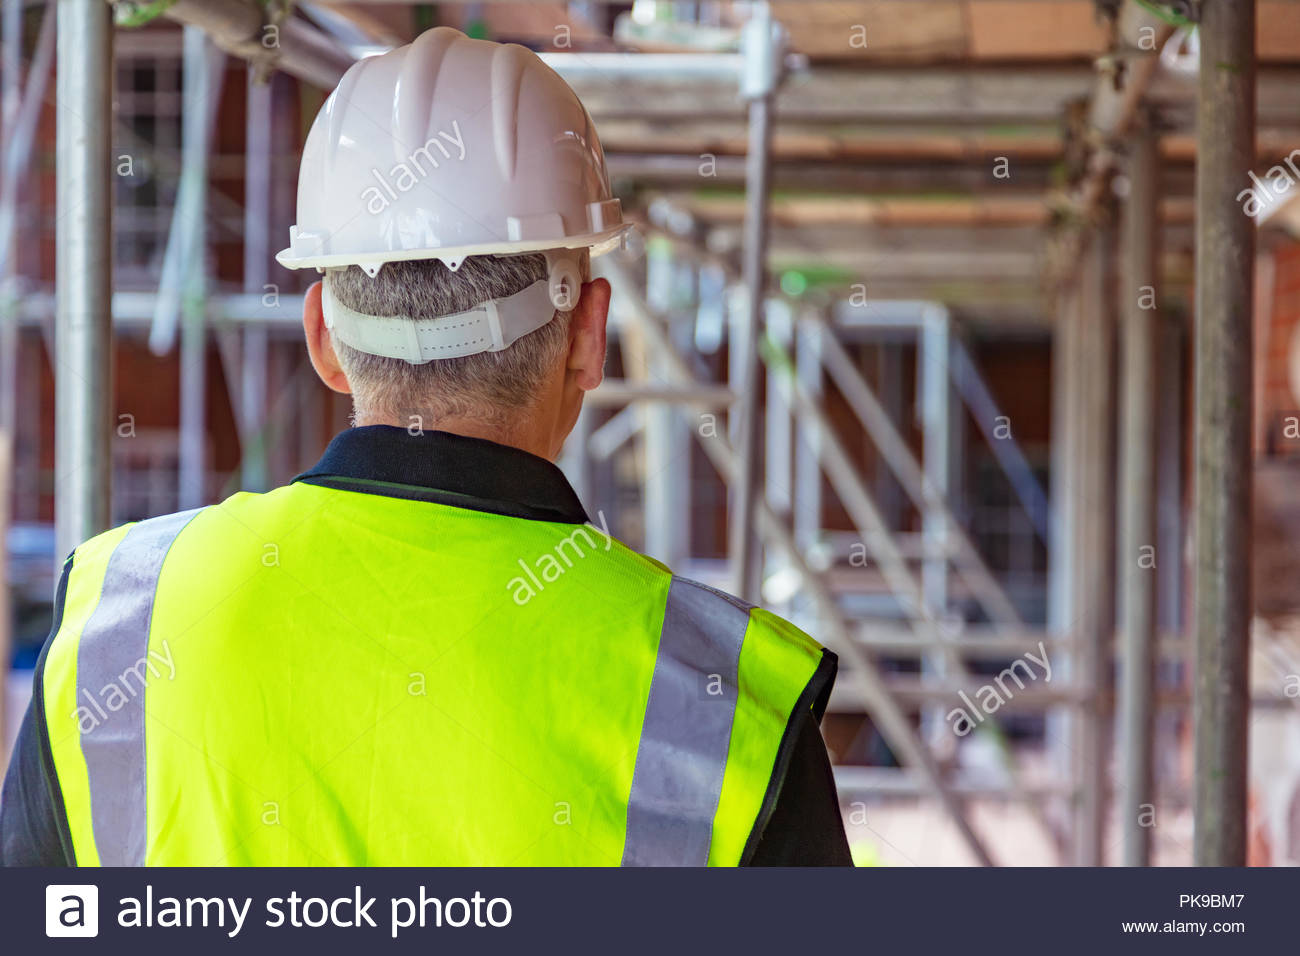Helmet: (270, 21, 633, 273)
